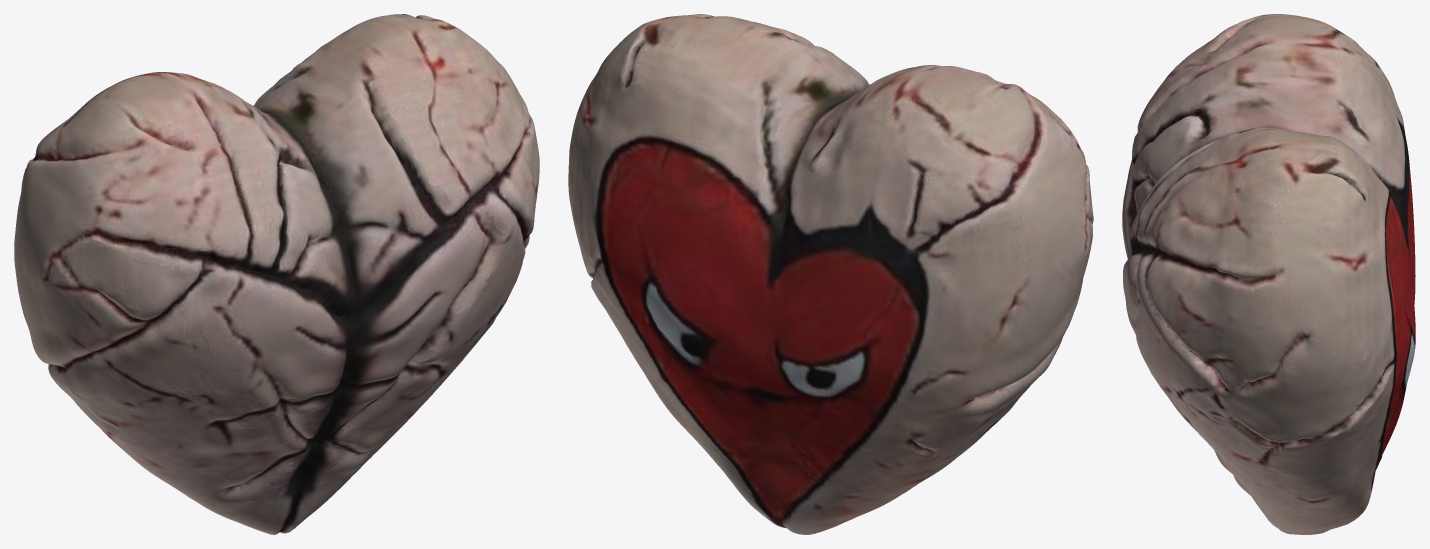
The model's file is heart-cracks.glb.
3 views of the same model, side by side, from view 1: azimuth 30°, elevation 25°; view 2: azimuth 150°, elevation 25°; view 3: azimuth 270°, elevation 25° (orthographic). The views are drawn at different scales.
Visible parts, largest first — view 1: HeartCracksModel; view 2: HeartCracksModel; view 3: HeartCracksModel.
Part boxes in pixels (left/top/right/bottom): HeartCracksModel: left=14, top=14, right=539, bottom=534; HeartCracksModel: left=568, top=14, right=1093, bottom=534; HeartCracksModel: left=1122, top=14, right=1415, bottom=534.
Size of the model in its own units: 0.5498 by 0.509 by 0.3014.
Materials: 1 (1 with a texture image).
